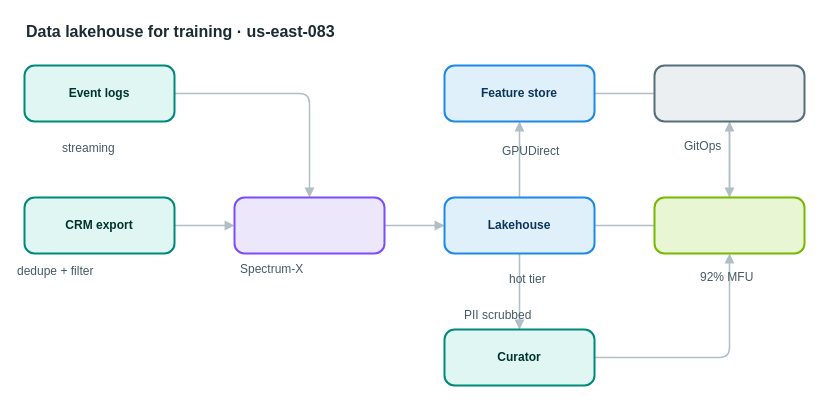
The diagram is 822 pixels wide and 403 high, and some of its shapes have lost their labels. Each missing label, with the centre of its shape:
Dashboards: point (729, 93)
Stream bus: point (309, 225)
Training jobs: point (729, 225)
